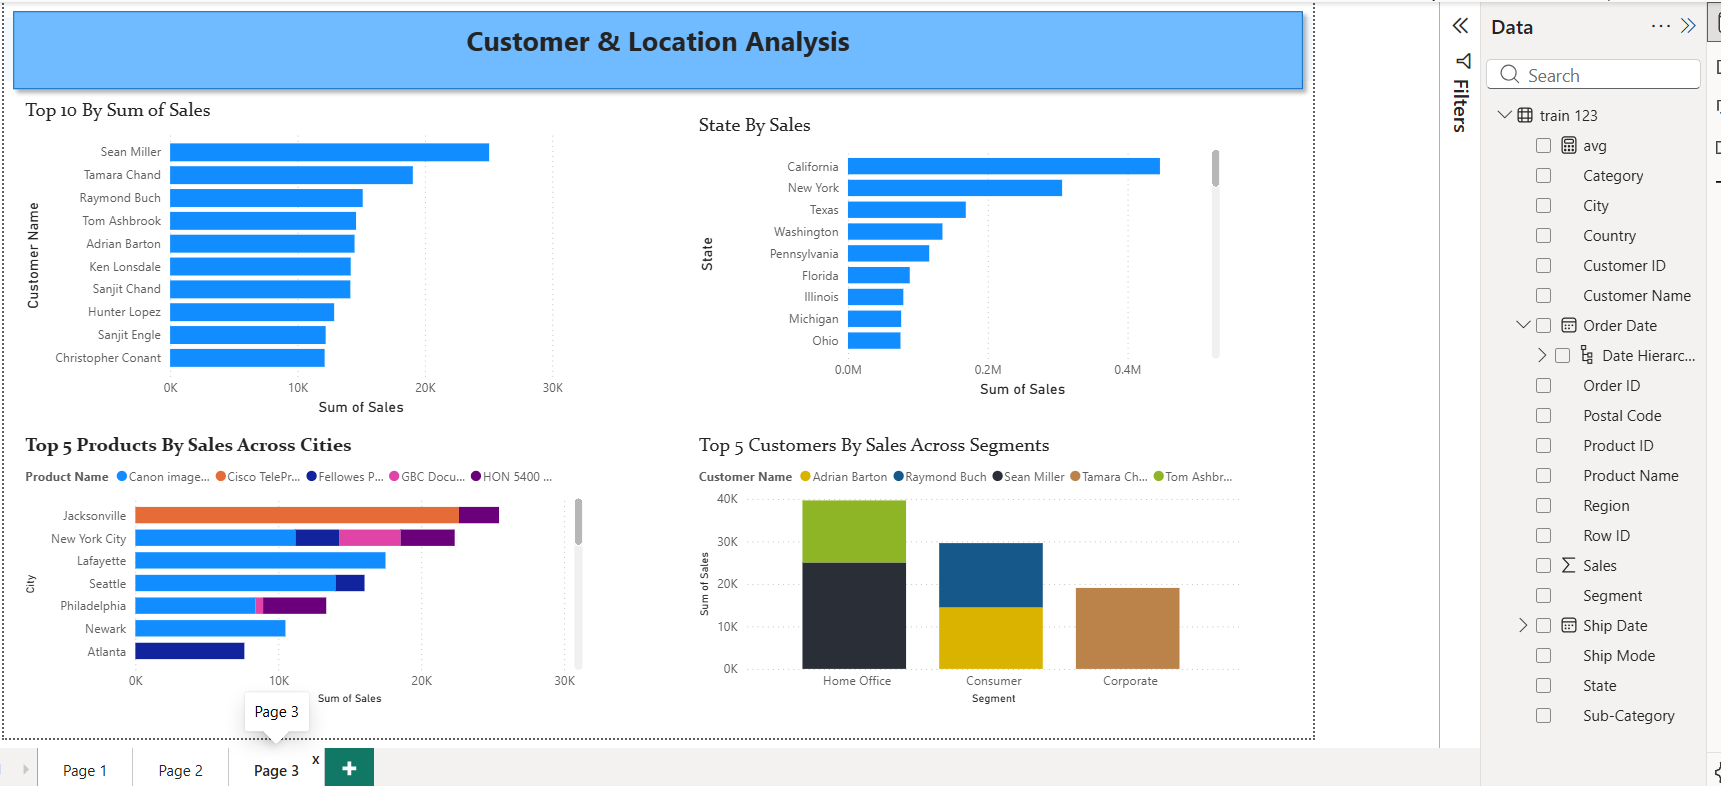

The page's visual inventory and layout, read from the dashboard file:
{"tool":"powerbi","page":{"name":"Page 3","canvas":[1280,720],"ordinal":2},"visuals":[{"type":"shape","box":[0,0,1279.7,94.3],"z":1},{"type":"textbox","box":[0,14.2,1279.7,62.3],"z":2},{"type":"clusteredBarChart","title":"Top 10 By Sum of Sales","fields":{"Category":["train 123.Customer Name"],"Y":["Sum(train 123.Sales)"]},"box":[16,94.3,535.7,315],"z":3},{"type":"clusteredBarChart","title":"State By Sales","fields":{"Category":["train 123.State"],"Y":["Sum(train 123.Sales)"]},"box":[674.5,108.6,519.7,283],"z":4},{"type":"barChart","title":"Top 5 Products By Sales Across Cities ","fields":{"Category":["train 123.City"],"Y":["Sum(train 123.Sales)"],"Series":["train 123.Product Name"]},"box":[16,421.8,555.3,270.5],"z":5},{"type":"columnChart","title":"Top 5 Customers By Sales Across Segments","fields":{"Category":["train 123.Segment"],"Y":["Sum(train 123.Sales)"],"Series":["train 123.Customer Name"]},"box":[674.5,421.8,539.3,270.5],"z":6}]}

Visuals, with their boxes on the page's 1280x720 design canvas (x1, y1, x2, y2). These are canvas units, not pixel positions in the 1721x786 screenshot, which may show the page scaled, cropped or inside an application window:
shape: region(0, 0, 1280, 94)
textbox: region(0, 14, 1280, 76)
"Top 10 By Sum of Sales" clusteredBarChart: region(16, 94, 552, 409)
"State By Sales" clusteredBarChart: region(674, 109, 1194, 392)
"Top 5 Products By Sales Across Cities " barChart: region(16, 422, 571, 692)
"Top 5 Customers By Sales Across Segments" columnChart: region(674, 422, 1214, 692)
